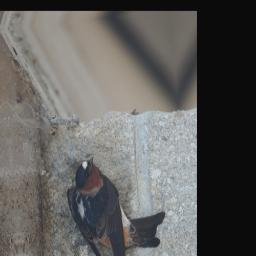Swallow: (61, 149, 172, 256)
